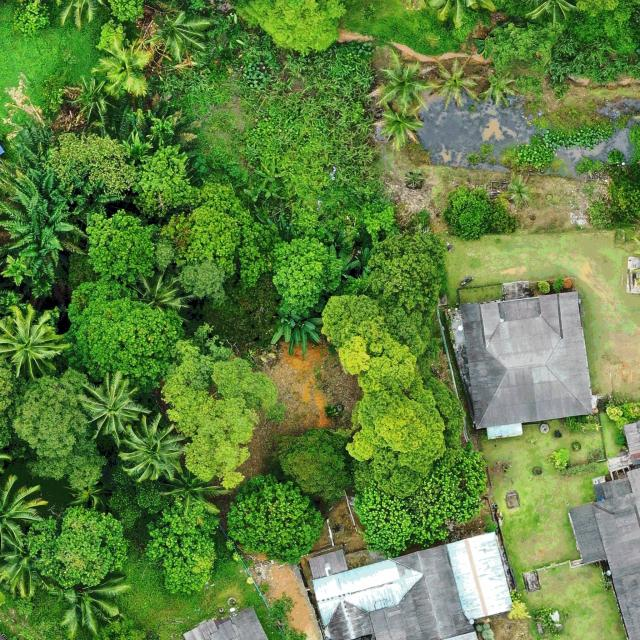Tree: (160, 333, 278, 489), (350, 442, 487, 557), (348, 367, 464, 498), (62, 275, 185, 391), (159, 181, 278, 298), (354, 226, 449, 361), (12, 366, 108, 488), (0, 172, 88, 286), (316, 295, 416, 392), (226, 472, 326, 566), (21, 505, 127, 589), (143, 496, 220, 597), (236, 0, 346, 57), (75, 370, 152, 447), (45, 132, 137, 196), (278, 427, 352, 503), (0, 303, 73, 380), (128, 146, 206, 217), (270, 234, 344, 306), (85, 207, 158, 279), (116, 414, 186, 484), (60, 573, 131, 637), (443, 184, 519, 239), (158, 470, 235, 520), (0, 473, 46, 553), (147, 9, 213, 64), (374, 52, 434, 112), (270, 305, 327, 357), (62, 72, 121, 122), (430, 61, 481, 110), (379, 103, 424, 151)
